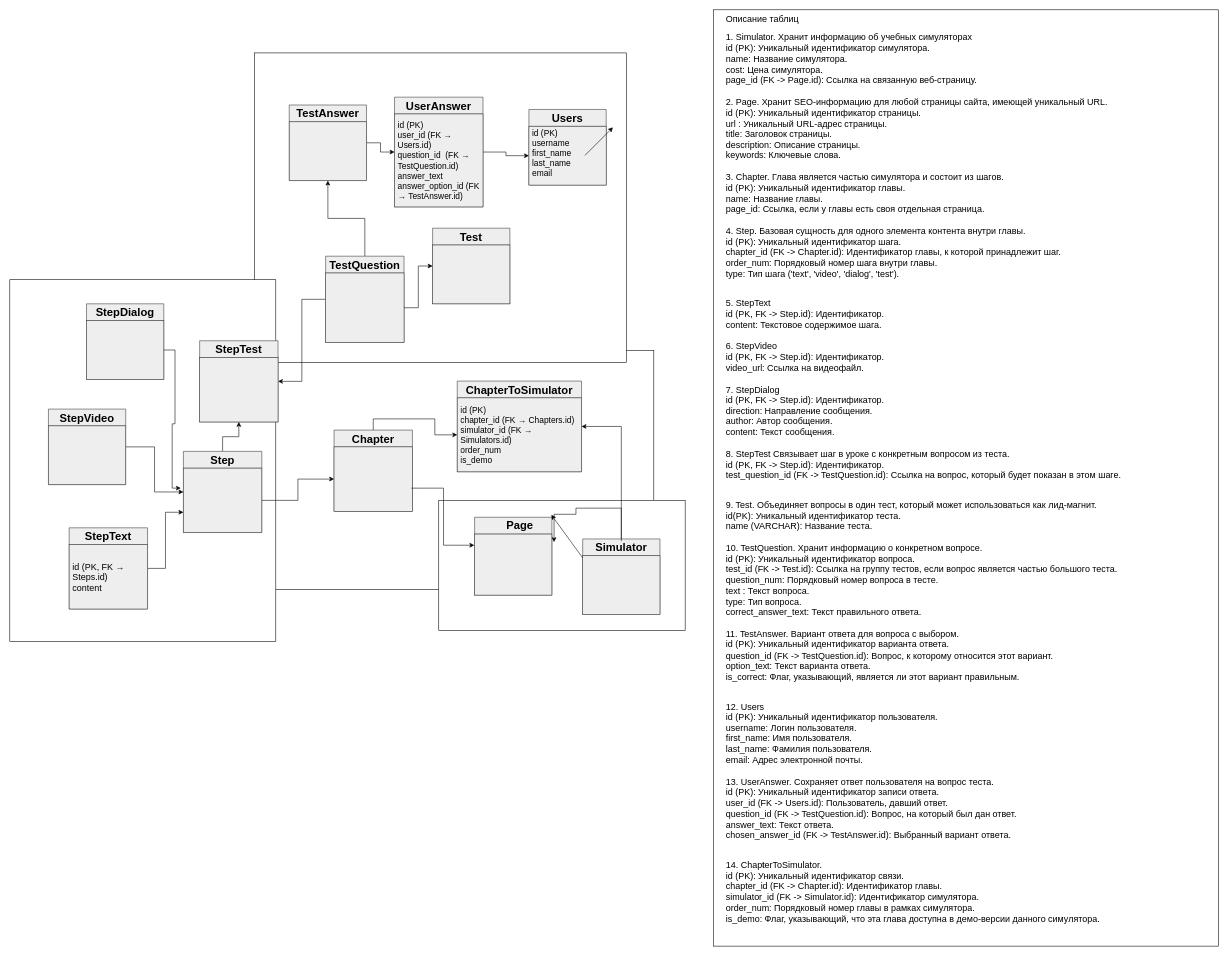
Some shapes in this 1228 by 956 pixel diagram are drawn without their labels. The shapes that lost their labels are listed below. From the top down, each one's centre as x and y in pixels, then its label:
At pixel 328 151: "id (PK) uestion_id (FK → TestQuestion.id) option_text is_correct".
At pixel 471 274: "id (PK) name".
At pixel 364 307: "id (PK) test_id (FK → Test.id) question_num text type".
At pixel 125 349: "id (PK, FK → Steps.id) direction author content".
At pixel 238 389: "id (PK, FK → Steps.id) test_question_id (FK → TestQuestion.id)".
At pixel 87 455: "id (PK, FK → Steps.id ) video_url".
At pixel 372 478: "id (PK) name Page_id (FK → Page.id)".
At pixel 222 500: "id (PK) chapter_id (FK → Chapter.id) type order_num".
At pixel 513 564: "id (PK) url title description keywords".
At pixel 621 585: "id (PK) name cost page_id (FK → Page.id)".
